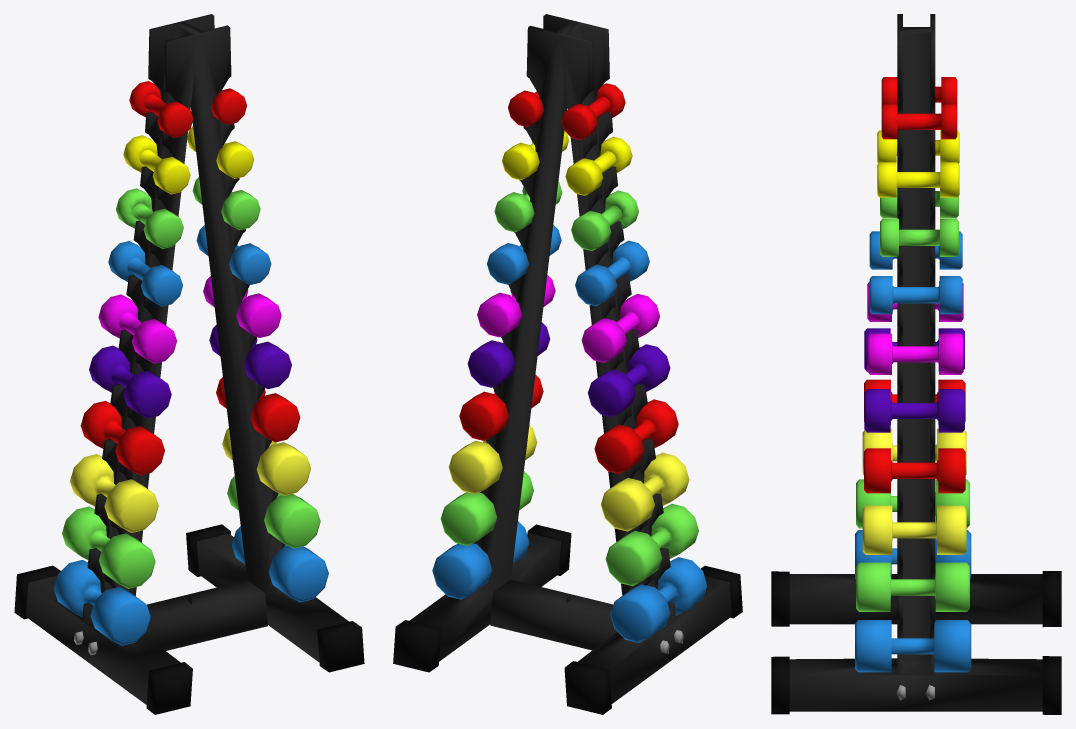
Rendered from ColorfulDumbbellRack.fbx.
The picture shows the model from 3 angles, left to right: view 1: azimuth 30°, elevation 25°; view 2: azimuth 150°, elevation 25°; view 3: azimuth 270°, elevation 25°; orthographic projection. The views are drawn at different scales.
Parts seen in each view (by area): view 1: ColorfulDumbbellsRack; view 2: ColorfulDumbbellsRack; view 3: ColorfulDumbbellsRack.
Boxes of the visible parts, x1,y1,x2,y2 form: ColorfulDumbbellsRack: (14, 14, 364, 714); ColorfulDumbbellsRack: (393, 14, 742, 714); ColorfulDumbbellsRack: (771, 14, 1061, 714).
Size of the model in its own units: 47.52 by 125 by 51.94.
